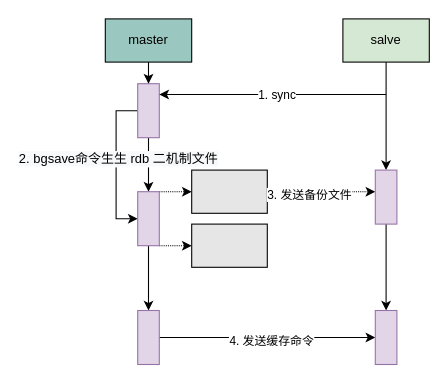
Some shapes in this 448 by 383 pixel diagram are drawn without their labels. The centre of each missing label's shape, as x and y in pixels:
"rdb文件" goes at pixel 229 191.
"缓存备份时新产生命令" goes at pixel 229 245.
